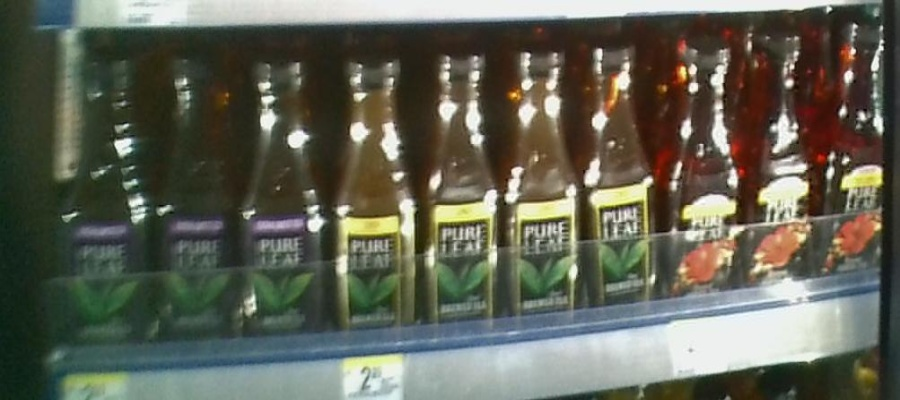bottle: (237, 49, 331, 357), (60, 47, 150, 356), (152, 47, 235, 357), (420, 49, 502, 359), (335, 49, 415, 355), (583, 40, 660, 343), (666, 36, 745, 328), (506, 47, 581, 347), (748, 17, 816, 305), (822, 19, 883, 282)
